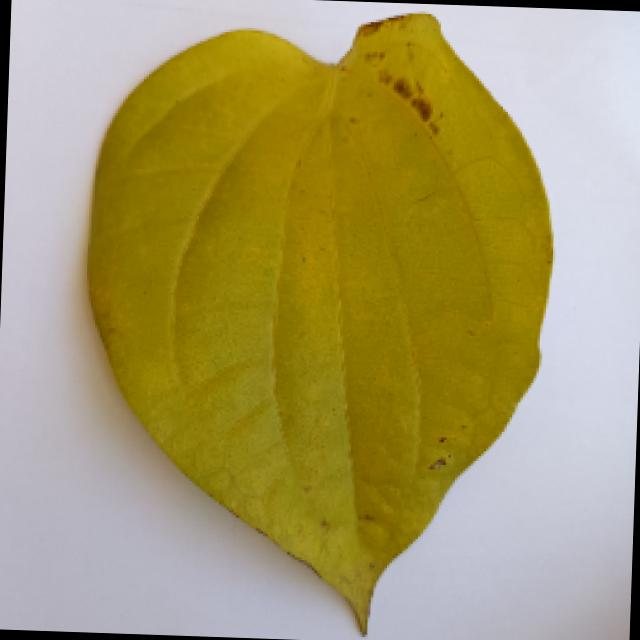slow-decline: (34, 18, 625, 640)
